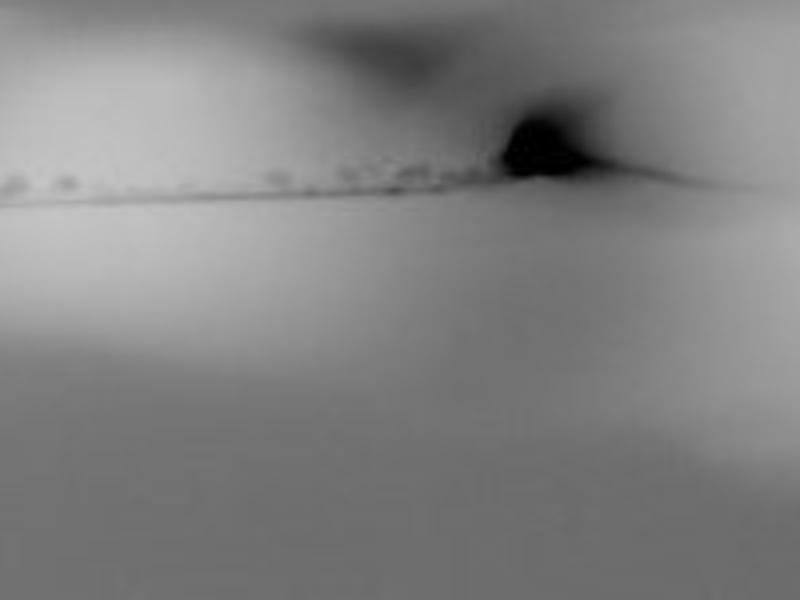defect: (499, 116, 580, 179)
